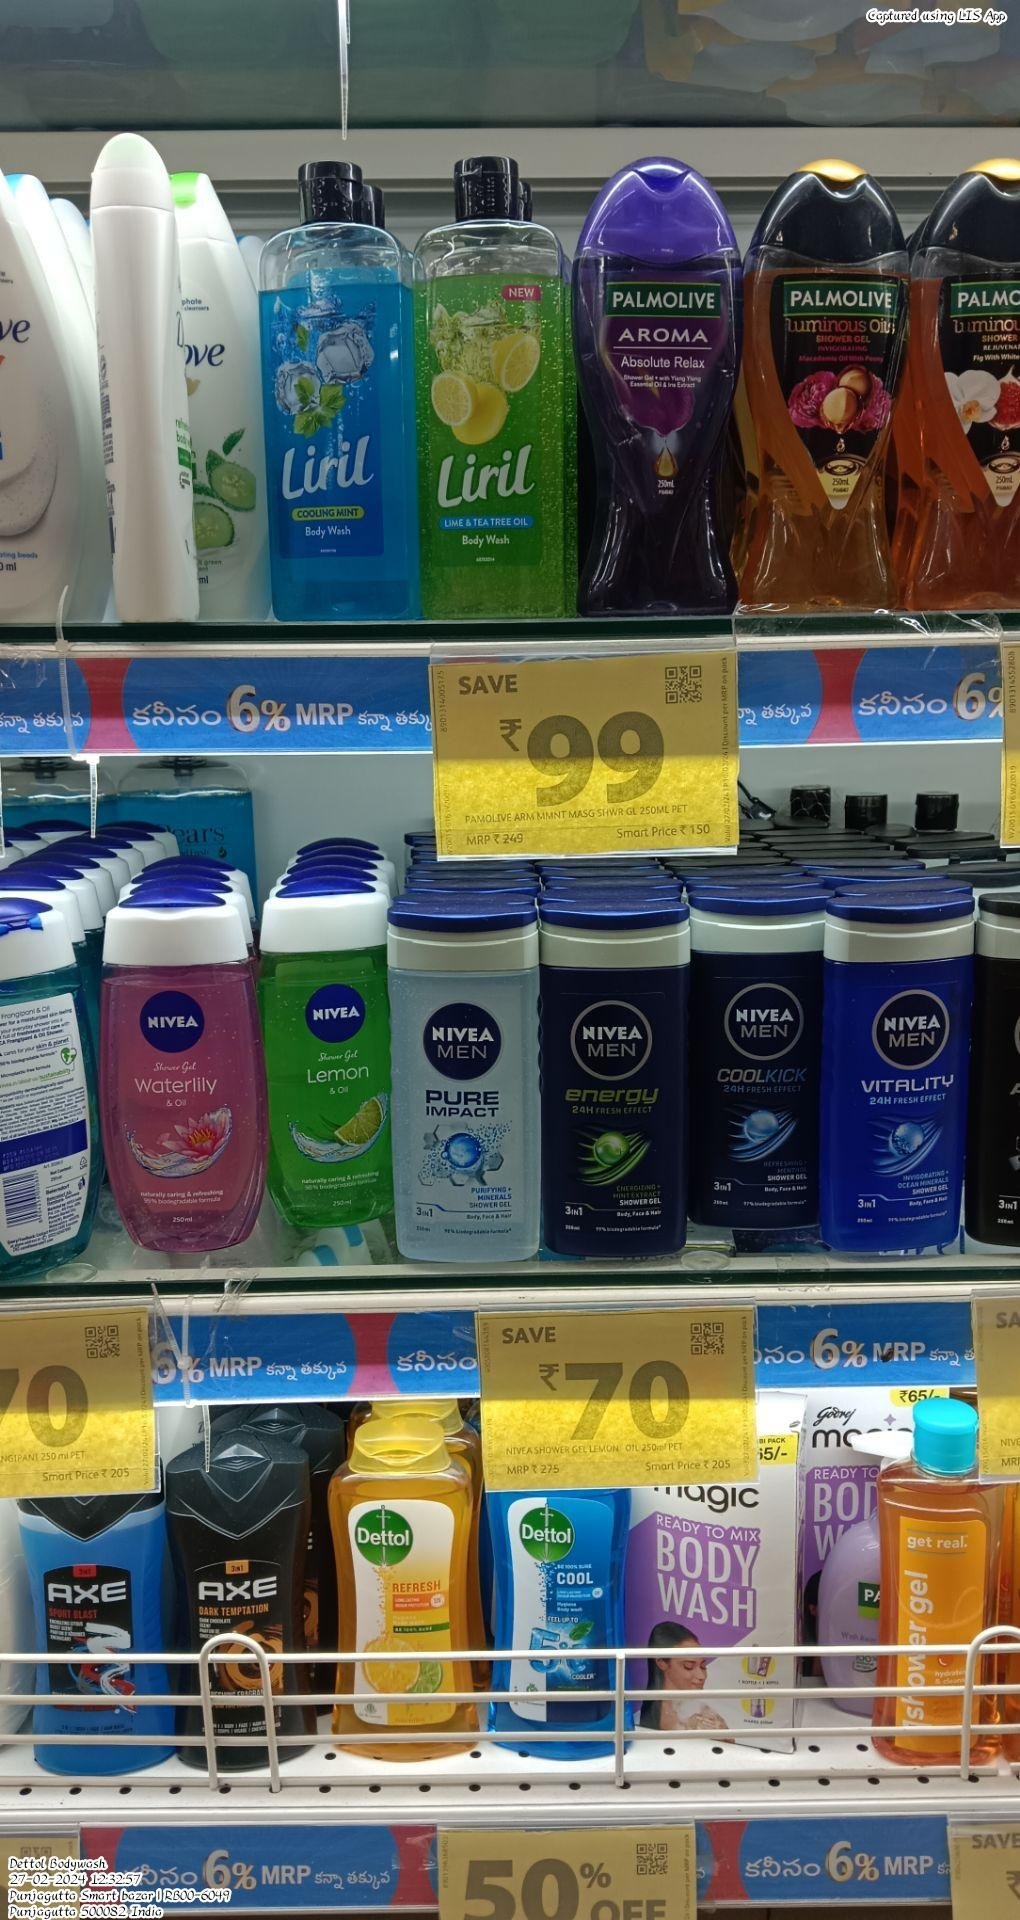Dettol_Bodywash_Cool: (493, 1490, 633, 1769)
Dettol_Bodywash_Refresh: (332, 1437, 476, 1765)
Liril_Cooling_Mint_Body_Wash_250ML: (259, 155, 414, 625)
Liril_Lime_and_Tea_Tree_Oil_Body_Wash_250ML: (418, 146, 565, 620)
Nivea_Shower_Gel_Lemon_and_Oil_250ML: (264, 875, 390, 1244)
Nivea_Shower_Gel_Waterlily_and_Oil_250ML: (111, 897, 255, 1256)
Palmolive_Aroma_Relax_250ML: (580, 160, 727, 625)
Palmolive_Luminous_Oils_Invigorating_Macadamia_Oil_With_Peony_250ML: (753, 159, 907, 616)
Palmolive_Luminous_Oils_With_White_Orchid_Shower_Gel_250ML: (918, 157, 1020, 618)
